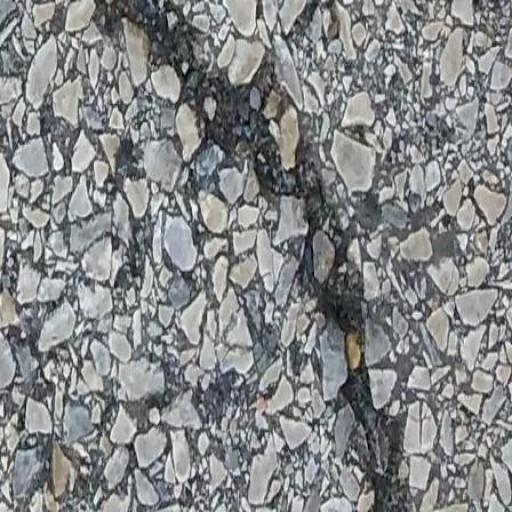spalling: (109, 0, 416, 509)
